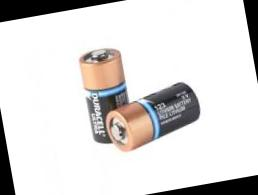battery: (95, 76, 212, 164), (69, 39, 142, 160)
